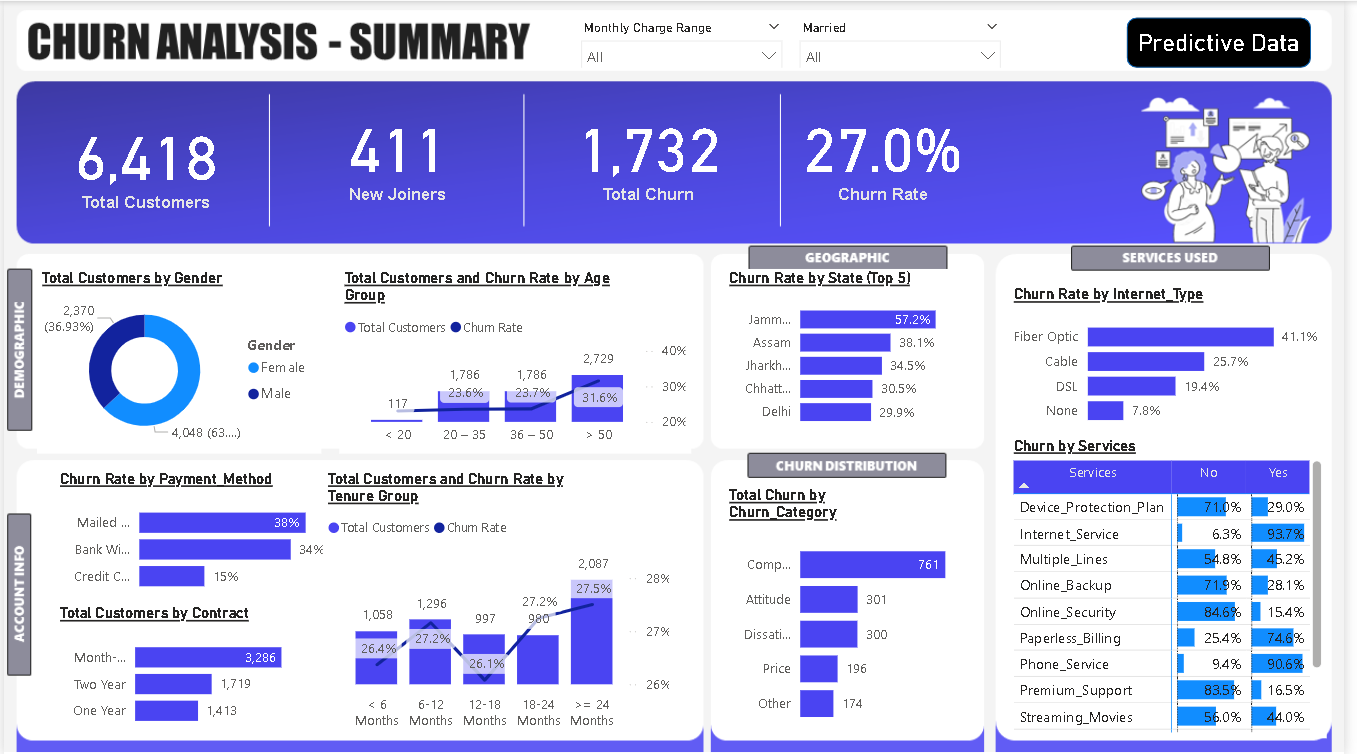

This screenshot's page, from the dashboard's own definition file:
{"tool":"powerbi","page":{"name":"Summary","canvas":[1280,720],"ordinal":0},"visuals":[{"type":"card","fields":{"Values":["tbl_measures.Total Churn"]},"box":[496,64,240,160],"z":0},{"type":"card","fields":{"Values":["tbl_measures.Total Customers"]},"box":[16,80,240,144],"z":1000},{"type":"donutChart","fields":{"Category":["prod_Churn.Gender"],"Y":["tbl_measures.Total Customers"]},"box":[32,256,272,176],"z":2000},{"type":"card","fields":{"Values":["tbl_measures.Churn Rate"]},"box":[736,64,208,160],"z":3000},{"type":"card","fields":{"Values":["tbl_measures.New Joiners"]},"box":[256,64,240,160],"z":4000},{"type":"barChart","fields":{"Category":["prod_Churn.Contract"],"Y":["tbl_measures.Total Customers"]},"box":[48,576,256,128],"z":5000},{"type":"clusteredBarChart","fields":{"Y":["tbl_measures.Churn Rate"],"Category":["prod_Churn.Payment_Method"]},"box":[48,448,272,128],"z":6000},{"type":"lineStackedColumnComboChart","fields":{"Category":["mapping_AgeGrp.Age Group"],"Y":["tbl_measures.Total Customers"],"Y2":["tbl_measures.Churn Rate"]},"box":[320,256,336,176],"z":7000},{"type":"lineStackedColumnComboChart","fields":{"Y":["tbl_measures.Total Customers"],"Y2":["tbl_measures.Churn Rate"],"Category":["mapping_TenureGrp.  Tenure Group"]},"box":[304,448,336,256],"z":8000},{"type":"clusteredBarChart","title":"Churn Rate by State (Top 5)","fields":{"Category":["prod_Churn.State"],"Y":["tbl_measures.Churn Rate"]},"box":[688,256,240,160],"z":9000},{"type":"clusteredBarChart","fields":{"Y":["tbl_measures.Total Churn"],"Category":["prod_Churn.Churn_Category"]},"box":[688,464,240,240],"z":10000},{"type":"clusteredBarChart","fields":{"Category":["prod_Churn.Internet_Type"],"Y":["tbl_measures.Churn Rate"]},"box":[960,272,304,144],"z":11000},{"type":"pivotTable","title":"Churn by Services","fields":{"Rows":["prod_services.Services"],"Columns":["prod_services.Status"],"Values":["Sum(prod_services.Churn Status)"]},"box":[960,416,304,288],"z":12000},{"type":"slicer","fields":{"Values":["prod_Churn.  Monthly Charge Range"]},"box":[544,16,208,48],"z":13000},{"type":"slicer","fields":{"Values":["prod_Churn.Married"]},"box":[752,16,208,48],"z":14000},{"type":"shape","box":[1072,16,176,48],"z":15000}]}

Visuals, with their boxes in screenshot pixels (x1, y1, x2, y2), scaled from the page's 1280x720 canvas onto the 1357x754 screenshot:
card - tbl_measures.Total Churn: (left=526, top=67, right=780, bottom=235)
card - tbl_measures.Total Customers: (left=17, top=84, right=271, bottom=235)
donutChart - prod_Churn.Gender x tbl_measures.Total Customers: (left=34, top=268, right=322, bottom=452)
card - tbl_measures.Churn Rate: (left=780, top=67, right=1001, bottom=235)
card - tbl_measures.New Joiners: (left=271, top=67, right=526, bottom=235)
barChart - prod_Churn.Contract x tbl_measures.Total Customers: (left=51, top=603, right=322, bottom=737)
clusteredBarChart - tbl_measures.Churn Rate x prod_Churn.Payment_Method: (left=51, top=469, right=339, bottom=603)
lineStackedColumnComboChart - mapping_AgeGrp.Age Group x tbl_measures.Total Customers: (left=339, top=268, right=695, bottom=452)
lineStackedColumnComboChart - tbl_measures.Total Customers x tbl_measures.Churn Rate: (left=322, top=469, right=678, bottom=737)
"Churn Rate by State (Top 5)" clusteredBarChart: (left=729, top=268, right=984, bottom=436)
clusteredBarChart - tbl_measures.Total Churn x prod_Churn.Churn_Category: (left=729, top=486, right=984, bottom=737)
clusteredBarChart - prod_Churn.Internet_Type x tbl_measures.Churn Rate: (left=1018, top=285, right=1340, bottom=436)
"Churn by Services" pivotTable: (left=1018, top=436, right=1340, bottom=737)
slicer - prod_Churn.  Monthly Charge Range: (left=577, top=17, right=797, bottom=67)
slicer - prod_Churn.Married: (left=797, top=17, right=1018, bottom=67)
shape: (left=1136, top=17, right=1323, bottom=67)
